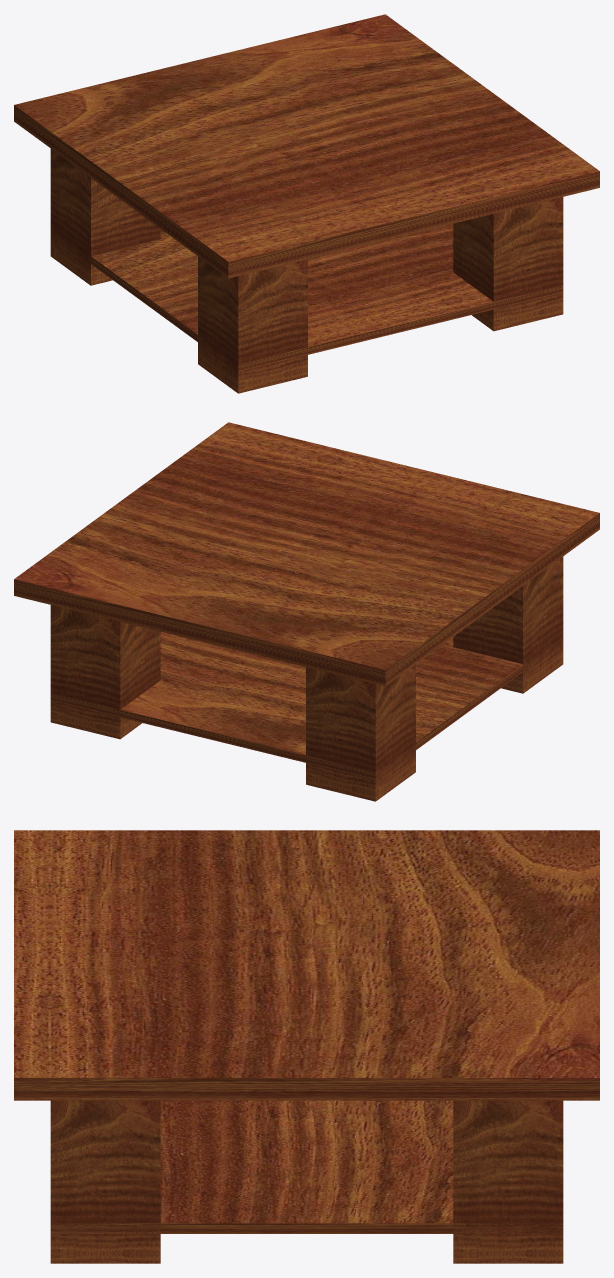
Rendered from Table 1.FBX.
3 views of the same model, one above another, from view 1: azimuth 30°, elevation 25°; view 2: azimuth 150°, elevation 25°; view 3: azimuth 270°, elevation 25° (orthographic). The views are drawn at different scales.
Parts seen in each view (by area): view 1: Table1; view 2: Table1; view 3: Table1.
Boxes of the visible parts, x1,y1,x2,y2 form: Table1: (14, 14, 599, 393); Table1: (14, 422, 599, 801); Table1: (14, 830, 599, 1263).
Bounding box in the file's own units: 31.5 × 31.5 × 11.93.
